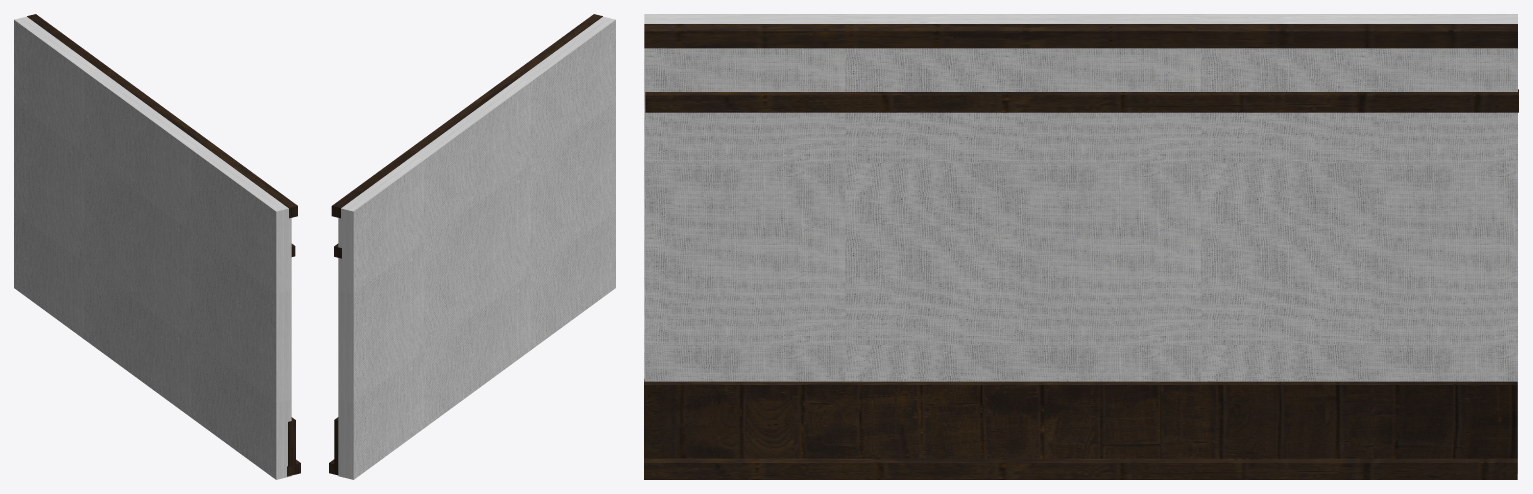
Rendered from Parede casa tile.fbx.
3 renders of one model, left to right at view 1: azimuth 30°, elevation 25°; view 2: azimuth 150°, elevation 25°; view 3: azimuth 270°, elevation 25°, orthographic. The views are drawn at different scales.
Visible parts, largest first — view 1: Cube; view 2: Cube; view 3: Cube.
Part boxes in pixels (box(x1,y1,x2,y2)): Cube: box(14, 14, 300, 479); Cube: box(329, 14, 615, 479); Cube: box(644, 14, 1518, 479).
Bounding box in the file's own units: 44.26 × 460 × 815.
5 materials, 5 textured.
